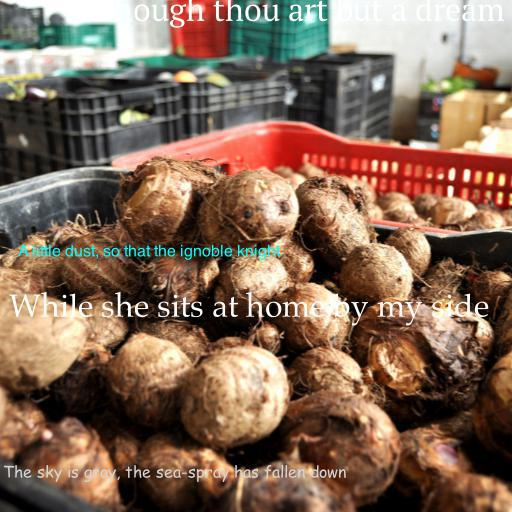Comic Sans MS: (2, 464, 346, 483)
Impact: (18, 244, 280, 260)
PT Serif: (93, 0, 505, 28)
Palatino: (9, 291, 489, 326)
